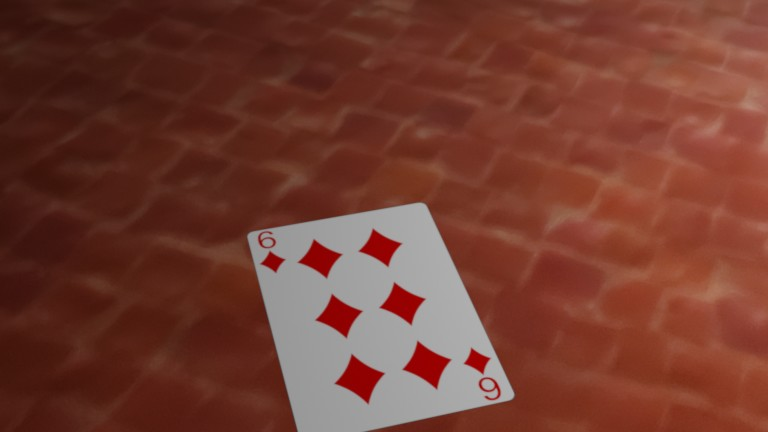6_of_diamonds: (452, 343, 513, 404), (249, 230, 295, 278)
